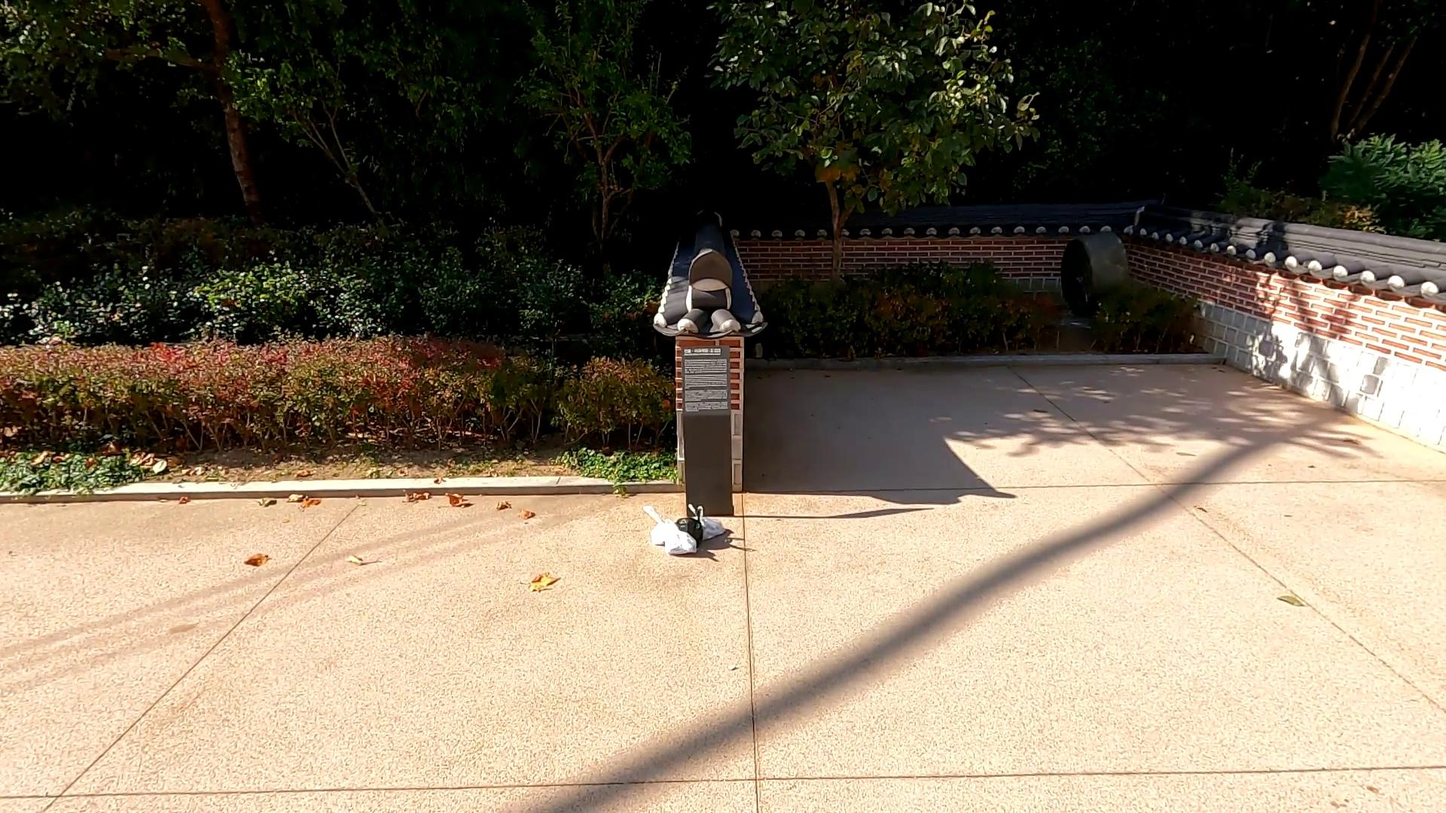trash: (687, 502, 727, 542), (643, 506, 679, 549), (665, 519, 698, 557), (672, 509, 705, 547)
